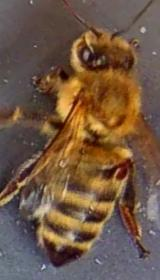varroa_mite: (108, 156, 134, 181)
